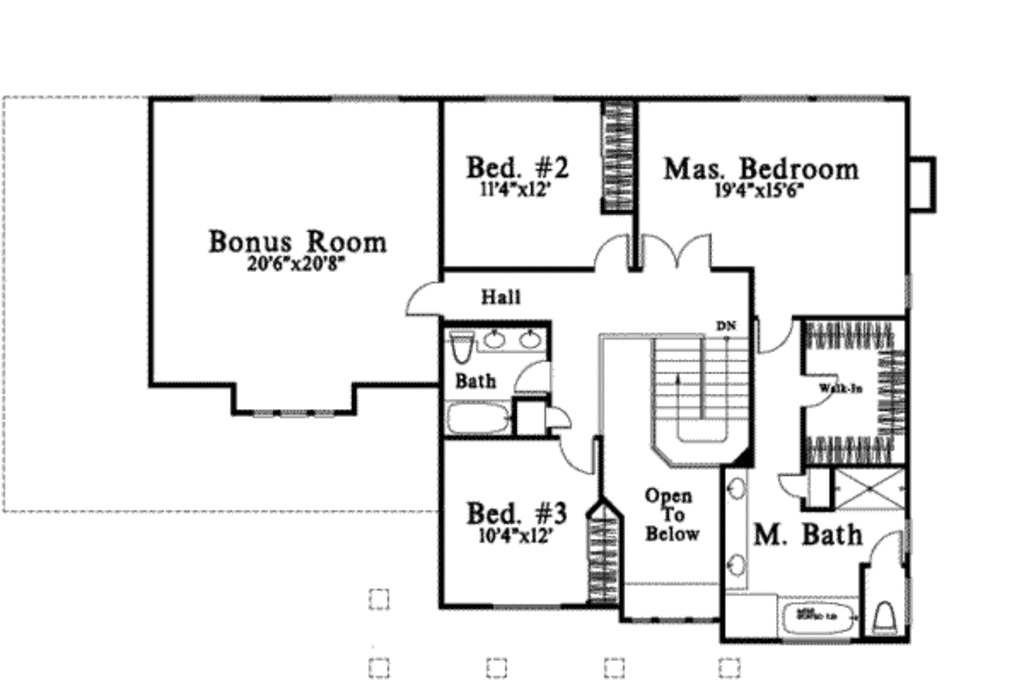door: (635, 231, 712, 274), (552, 428, 603, 477), (855, 521, 907, 566), (750, 311, 796, 351), (588, 225, 630, 268), (510, 352, 553, 392), (803, 365, 842, 405), (405, 280, 448, 314), (773, 466, 807, 500), (544, 404, 570, 431)
large_sink: (869, 582, 905, 639), (442, 324, 478, 368)
small_sink: (723, 460, 751, 593), (479, 324, 555, 351)
stairs: (648, 326, 760, 464)
tub: (438, 392, 512, 433), (778, 595, 856, 632)
window: (186, 90, 270, 108), (482, 89, 558, 104), (324, 92, 407, 105), (489, 599, 560, 612)
